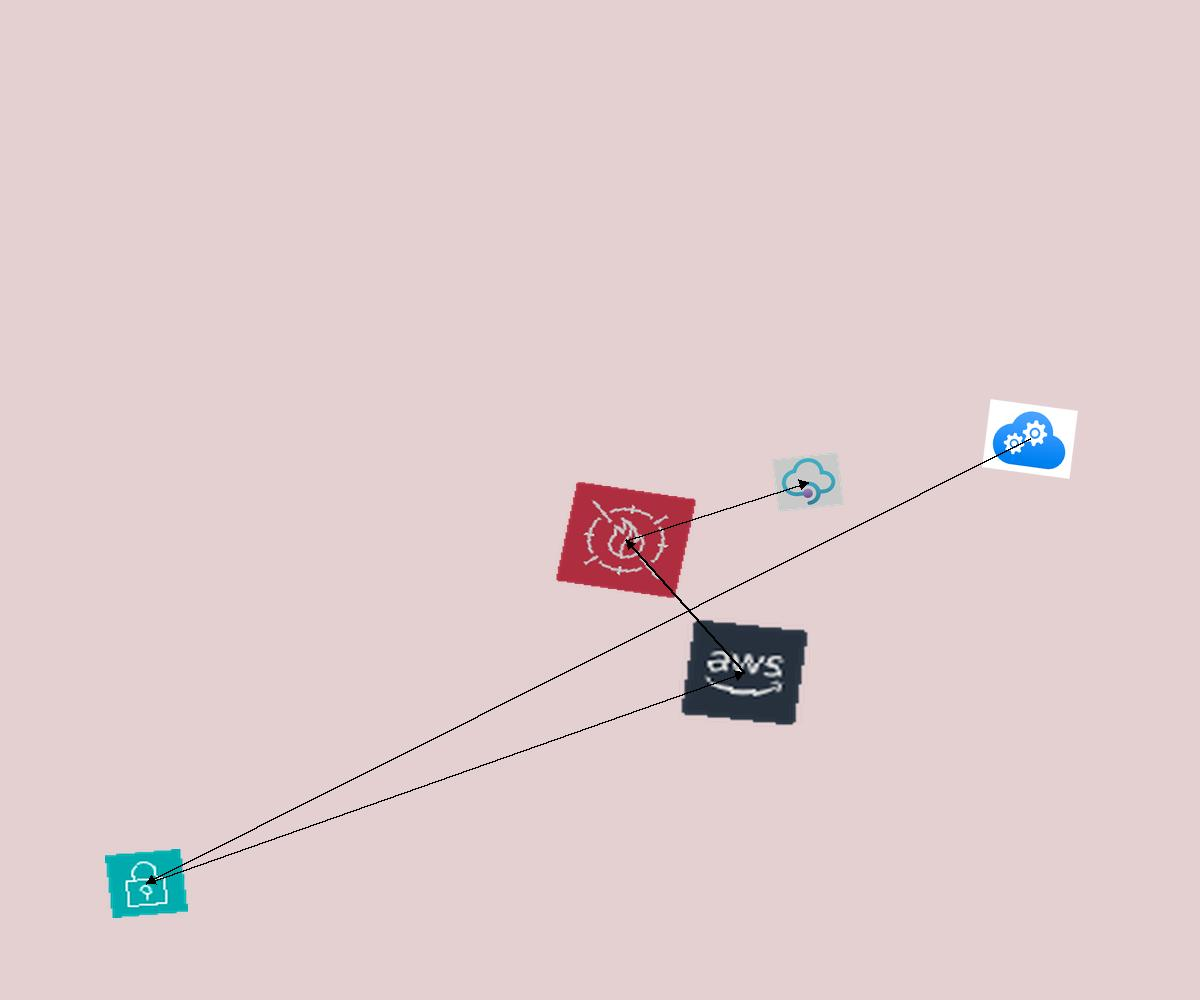AWS-Cloud-logo: (679, 618, 810, 727)
AWS-Private-subnet: (105, 849, 188, 918)
AWS-WAF: (555, 481, 697, 599)
Azure_api_gateway: (772, 452, 844, 512)
Azure_cloud_services: (982, 399, 1078, 479)
